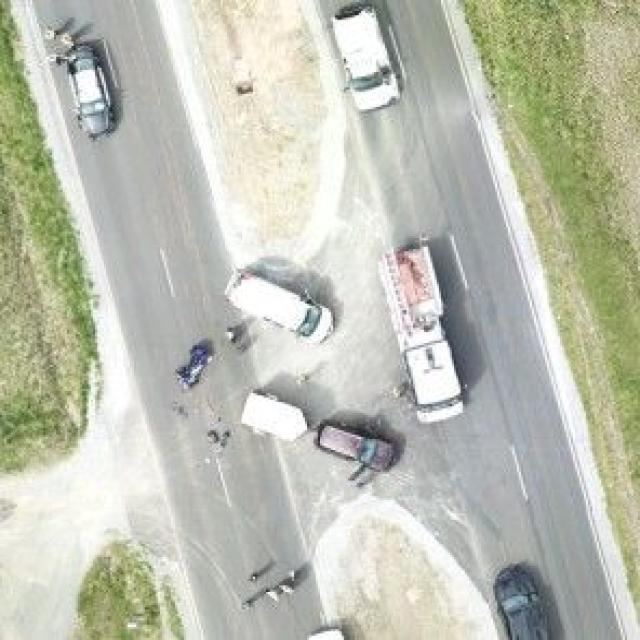traffic_incident: (160, 316, 223, 399)
